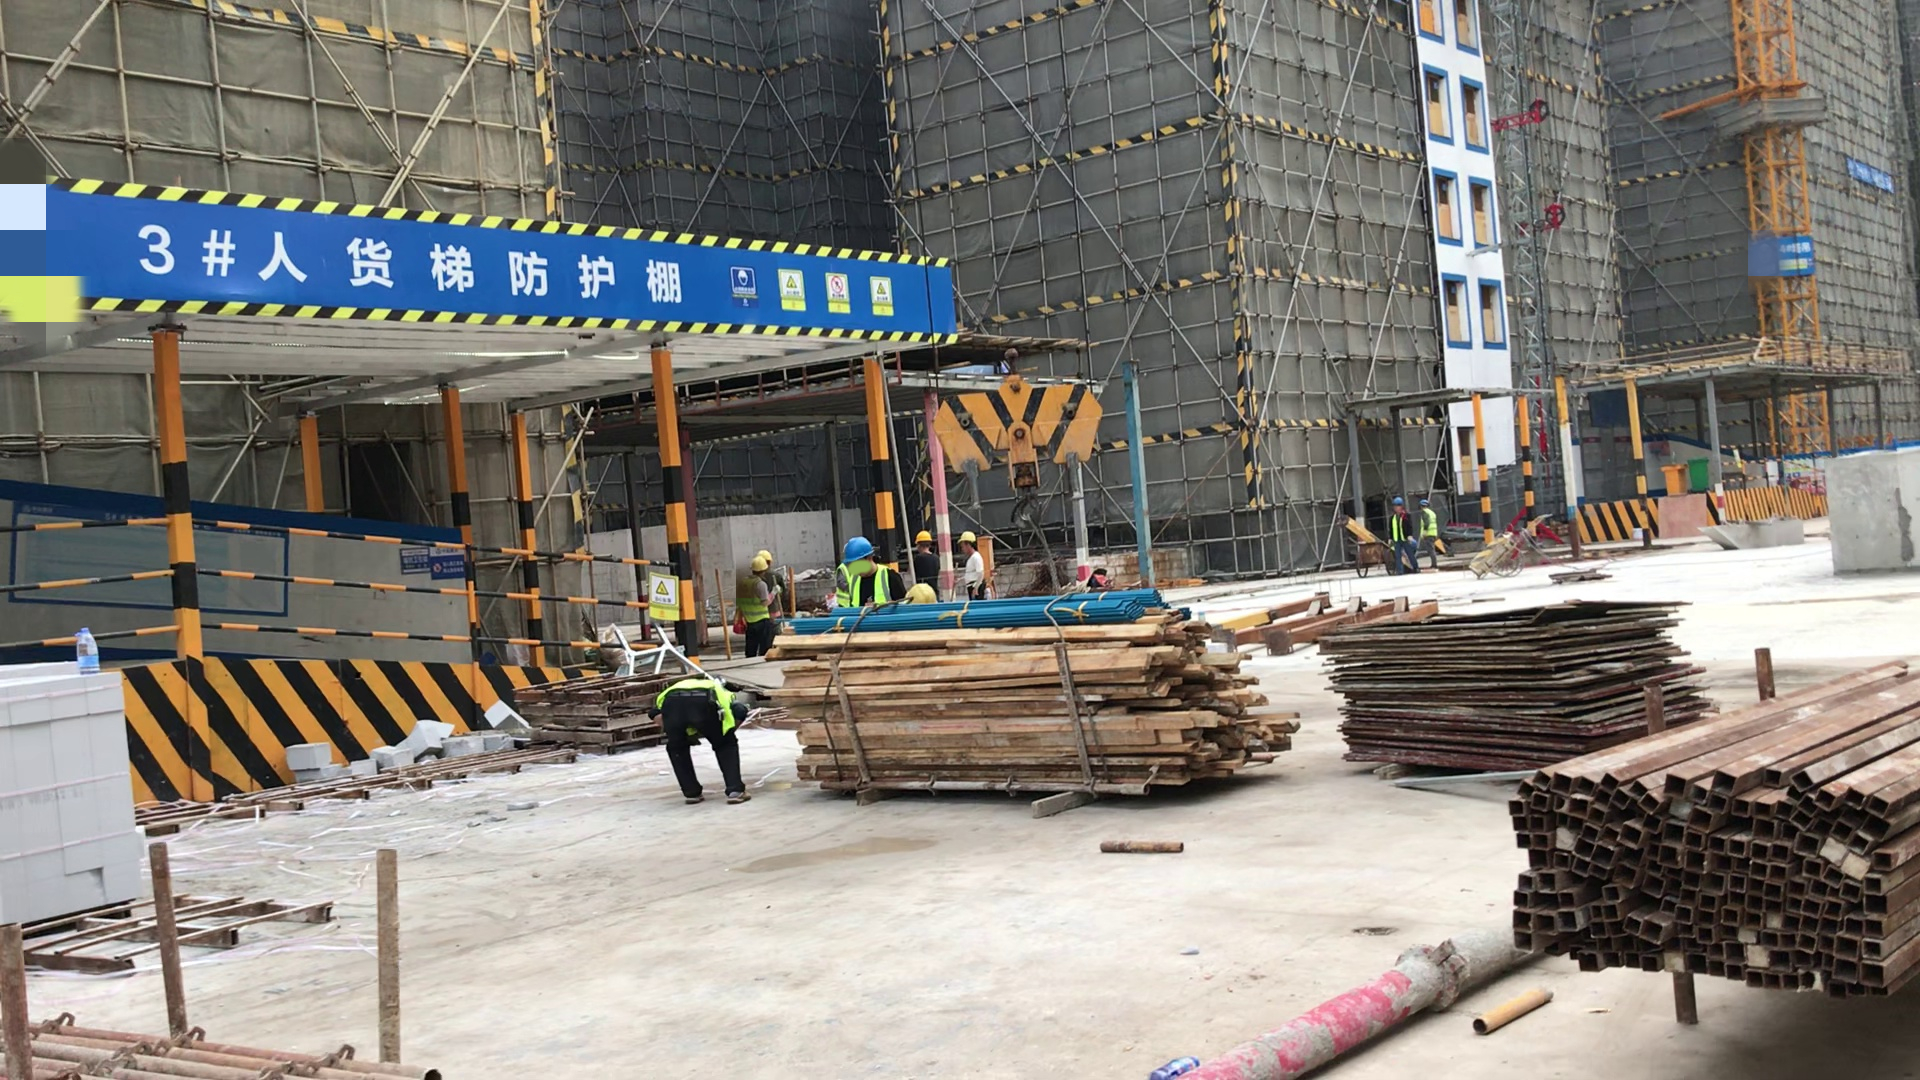board: (1333, 608, 1711, 766)
brick: (1, 669, 127, 938)
ebox: (977, 535, 996, 598), (1662, 462, 1690, 495)
handcart: (1475, 537, 1529, 576), (1351, 541, 1388, 579)
helmet: (844, 538, 873, 563), (905, 584, 935, 603), (751, 557, 768, 572), (958, 533, 977, 543), (757, 550, 772, 563), (916, 531, 932, 543), (1393, 498, 1403, 505)
hook: (935, 360, 1102, 530)
hopper: (1702, 518, 1805, 551)
person: (654, 679, 756, 808), (844, 538, 902, 614), (740, 560, 773, 662), (954, 535, 988, 603), (1388, 500, 1416, 577), (916, 530, 939, 603), (1420, 499, 1437, 570)
scaffold: (1511, 665, 1920, 992), (1, 1018, 433, 1077)
slogan: (728, 261, 892, 318), (1843, 156, 1900, 193), (648, 568, 682, 620)
vest: (659, 680, 741, 728), (850, 572, 892, 611), (739, 581, 768, 619), (834, 567, 853, 608), (1420, 508, 1437, 536)
wood: (777, 627, 1292, 788)
